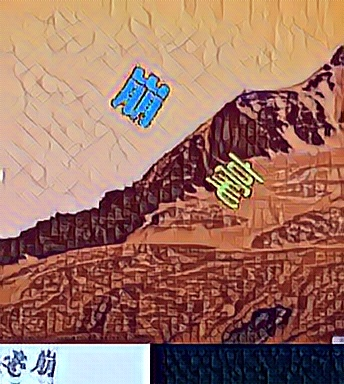B1C0: (109, 63, 172, 129)
BAC1: (202, 145, 265, 211)
